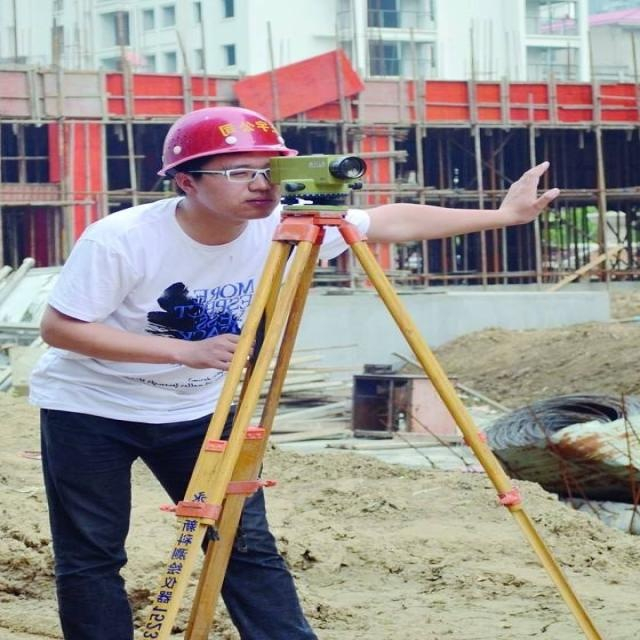Con_Casco: (173, 107, 286, 226)
